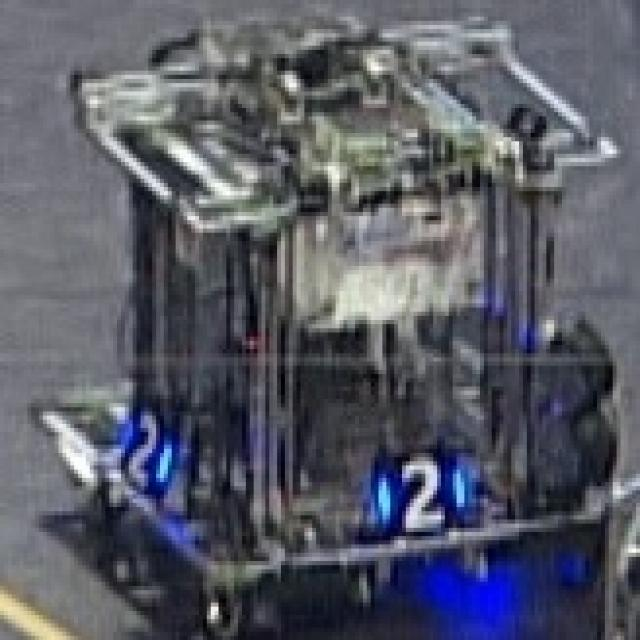B2: (370, 449, 460, 528), (117, 403, 172, 491)
